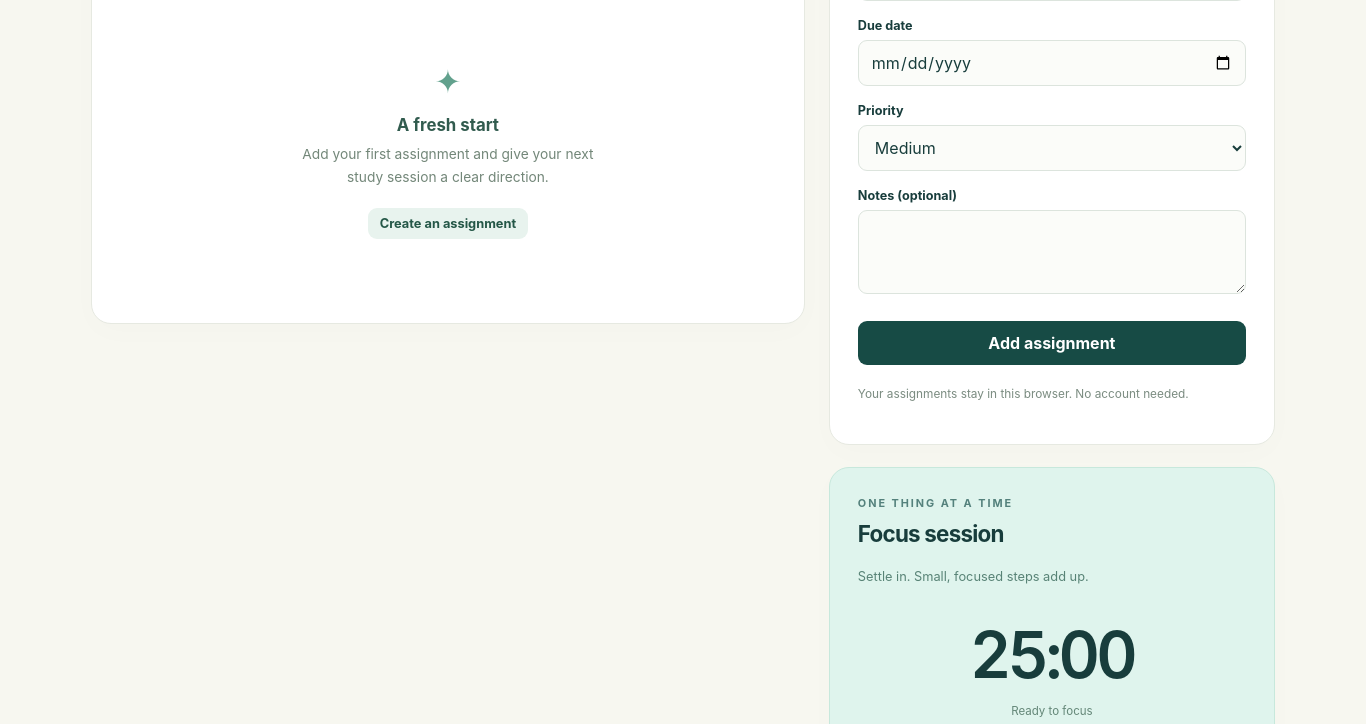
Test: application › shows validation and protects existing storage on write failure
(page scrolled)
Click the button "Add assignment" at point(1052, 343), box [858, 321, 1246, 365]
(page scrolled)
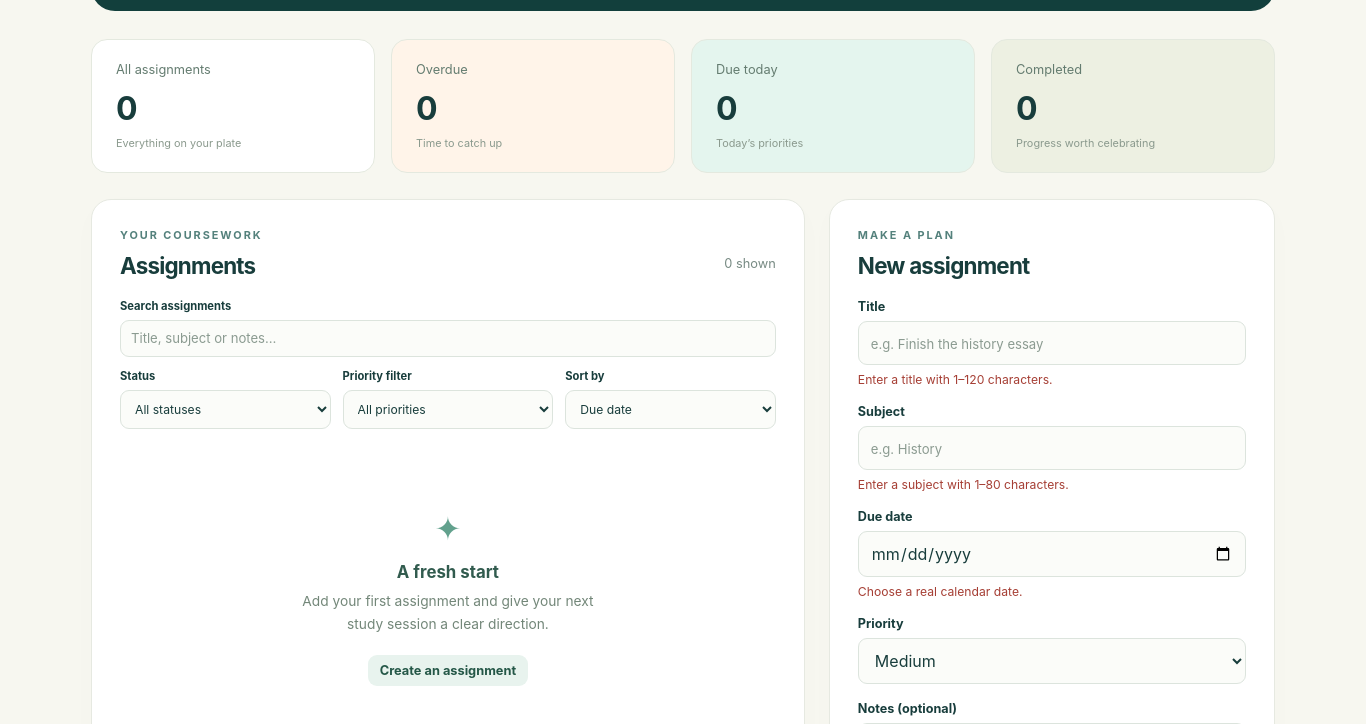
Expected: the text "Enter a title with 1–120 characters." is shown, [858, 372, 1052, 387]
Type "Essay" into the field labelled "Title" at point(1052, 343), box [858, 321, 1246, 365]
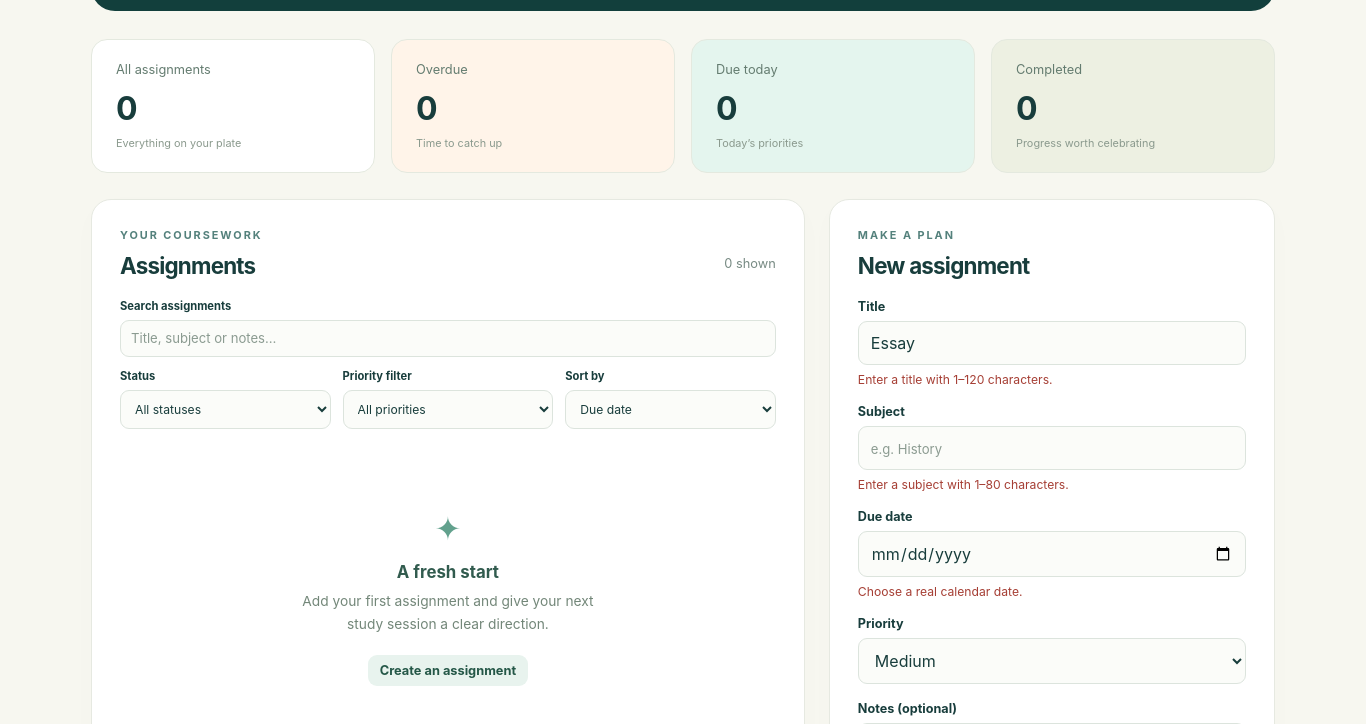
Type "History" into the field labelled "Subject" at point(1052, 448), box [858, 426, 1246, 470]
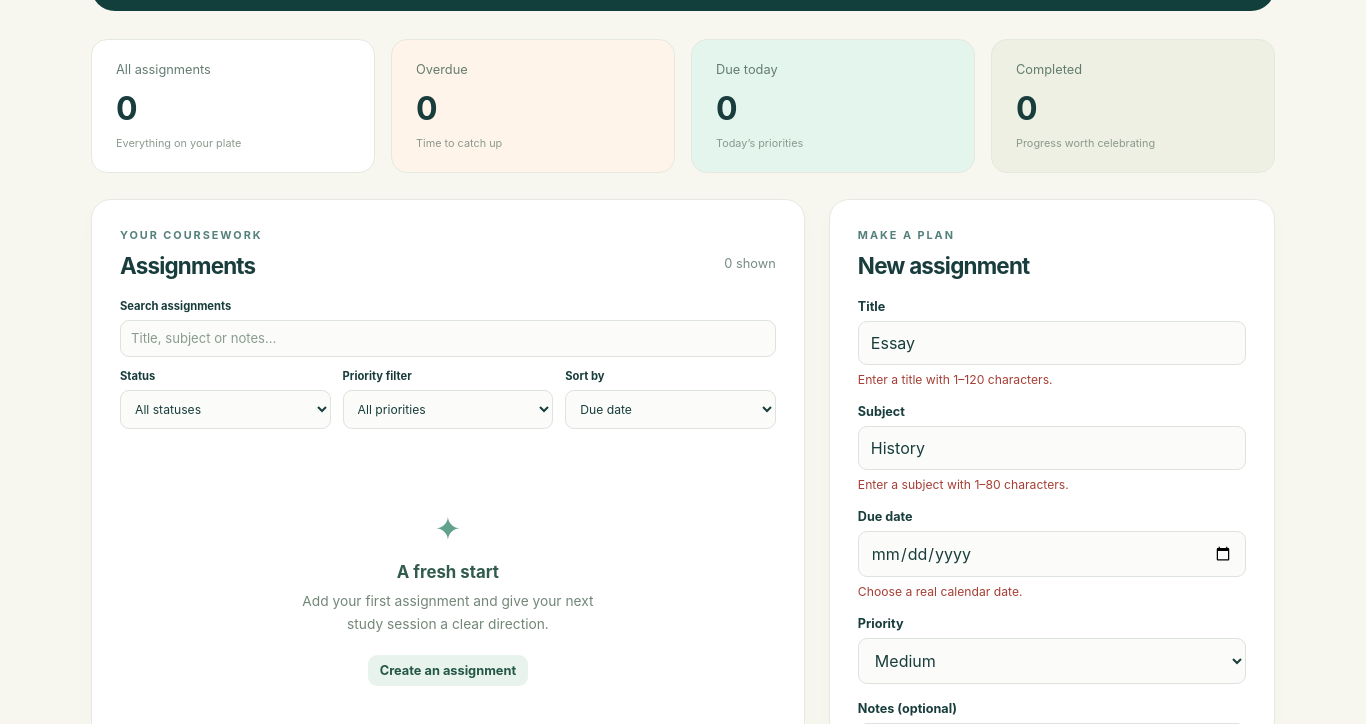
Type "2026-10-20" into the date field labelled "Due date" at point(1052, 554), box [858, 531, 1246, 577]
(page scrolled)
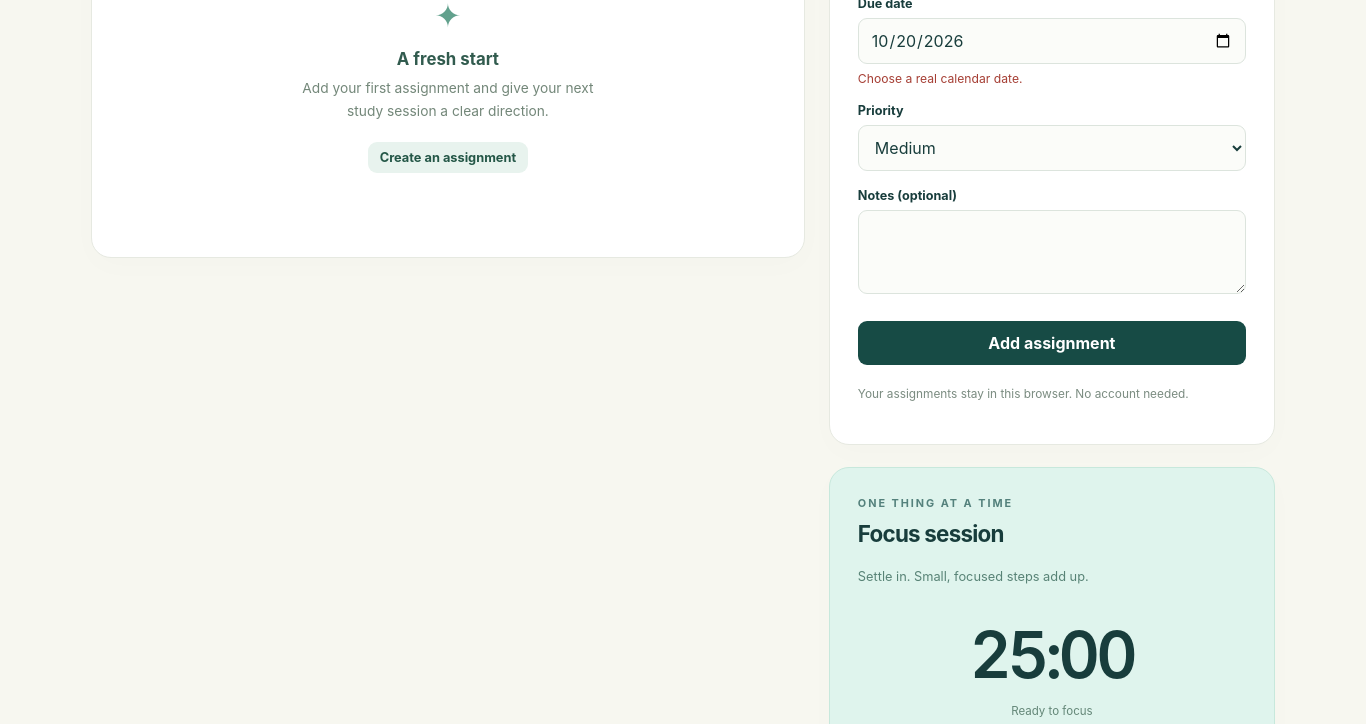
Click the button "Add assignment" at point(1052, 343), box [858, 321, 1246, 365]
(page scrolled)
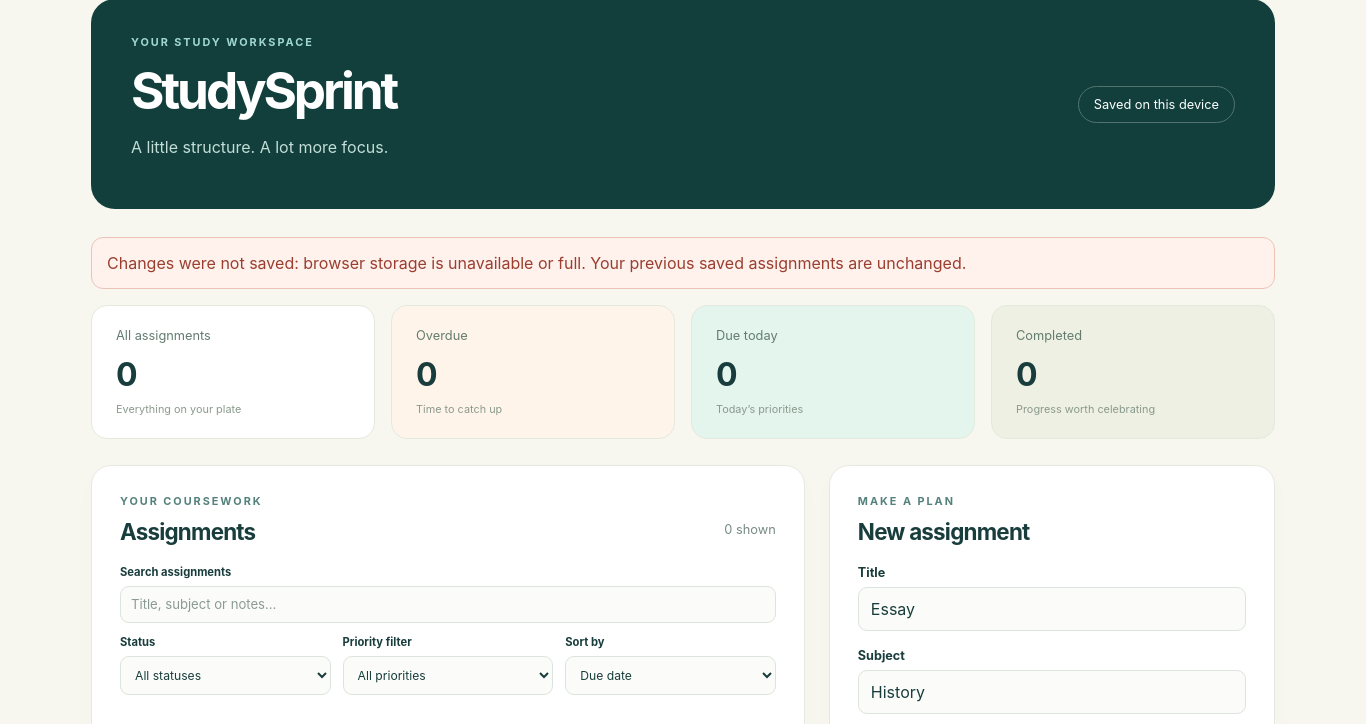
Expected: the message shows "Changes were not saved", [107, 253, 966, 273]
